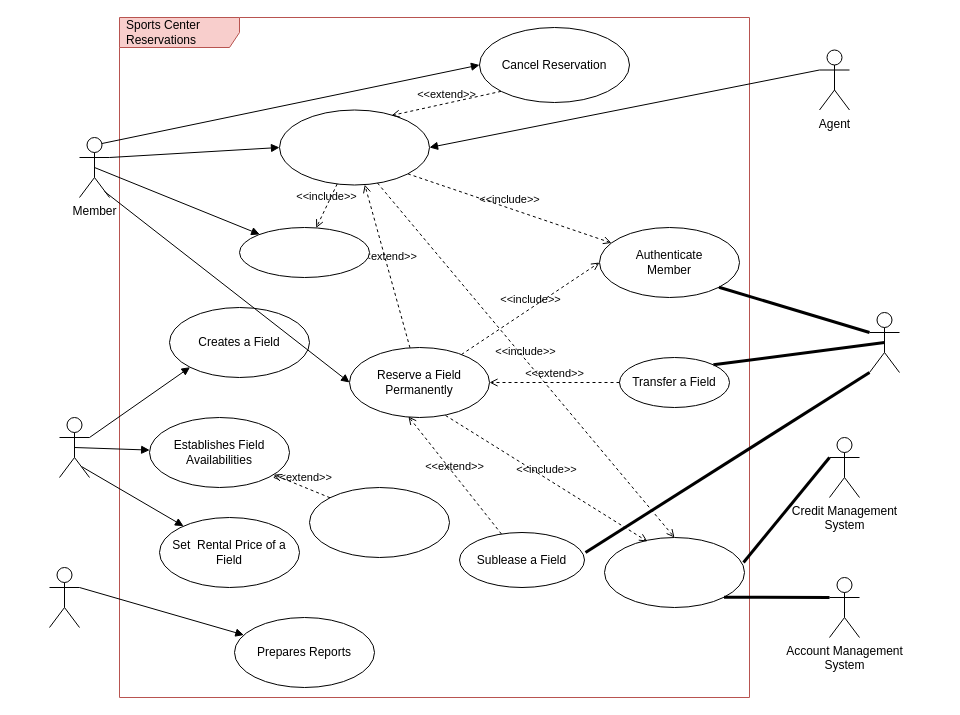
The diagram is 960 pixels wide and 715 high, and some of its shapes have lost their labels. The box of each missing label's shape, as (x1, y1, x2, y2) in pixels:
Attendant, Customer Service: (48, 566, 80, 628)
Edit the schedule and the availability of a time slot: (308, 486, 450, 558)
Manager: (58, 416, 90, 478)
Member Management System: (868, 312, 900, 372)
Pay Reservation: (604, 536, 744, 608)
Reserve a Field at a Given Time (occasional): (278, 109, 430, 185)
Verify a Field Availability: (238, 226, 370, 278)
